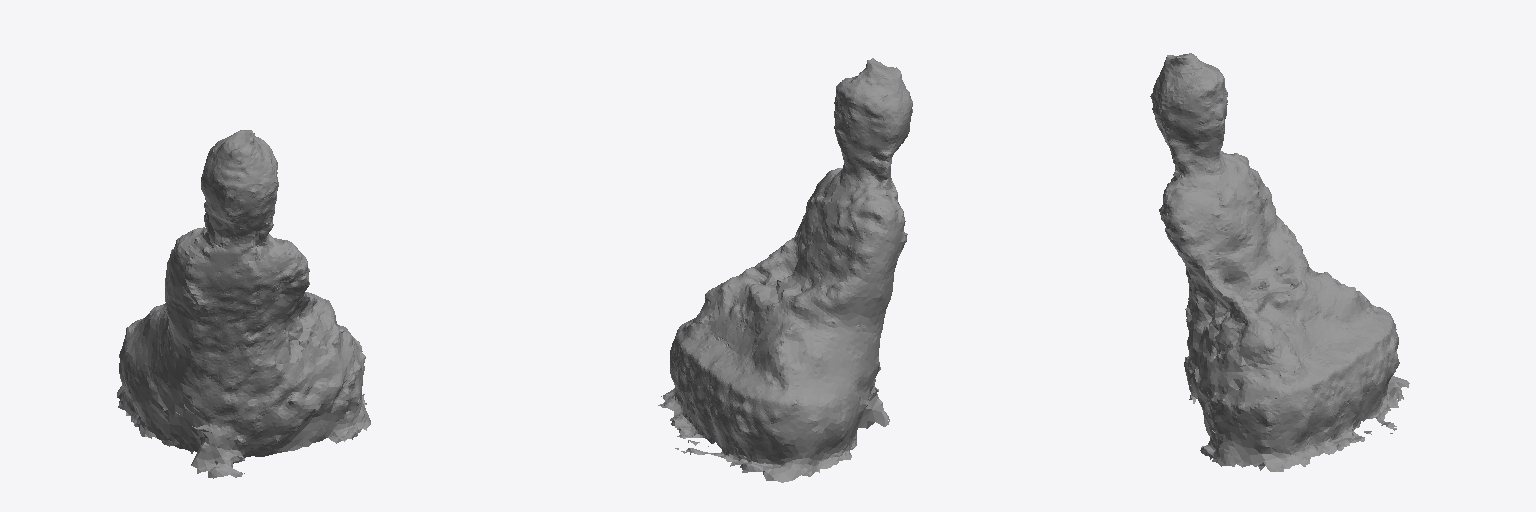
The model's file is buddha.obj.
3 views of the same model, side by side, from view 1: azimuth 30°, elevation 25°; view 2: azimuth 150°, elevation 25°; view 3: azimuth 270°, elevation 25° (orthographic).
Visible parts, largest first — view 1: texturedMesh; view 2: texturedMesh; view 3: texturedMesh.
Boxes of the visible parts, x1,y1,x2,y2 form: texturedMesh: [117, 130, 370, 478]; texturedMesh: [658, 58, 912, 482]; texturedMesh: [1150, 53, 1409, 471].
Size of the model in its own units: 0.2518 by 0.3985 by 0.2695.